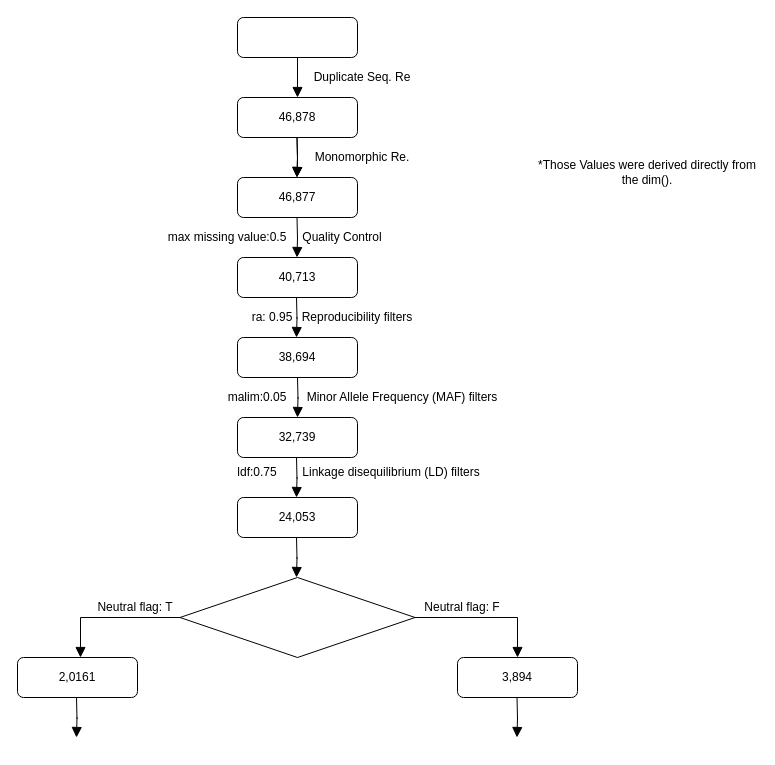
The diagram is 775 pixels wide and 765 high, and some of its shapes have lost their labels. Each missing label, with the centre of its shape:
Neutrality filters: the point at 297,617
Total: 69,799: the point at 297,37
